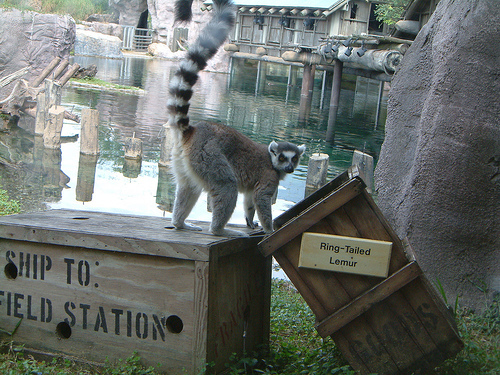cat: (166, 0, 305, 236)
